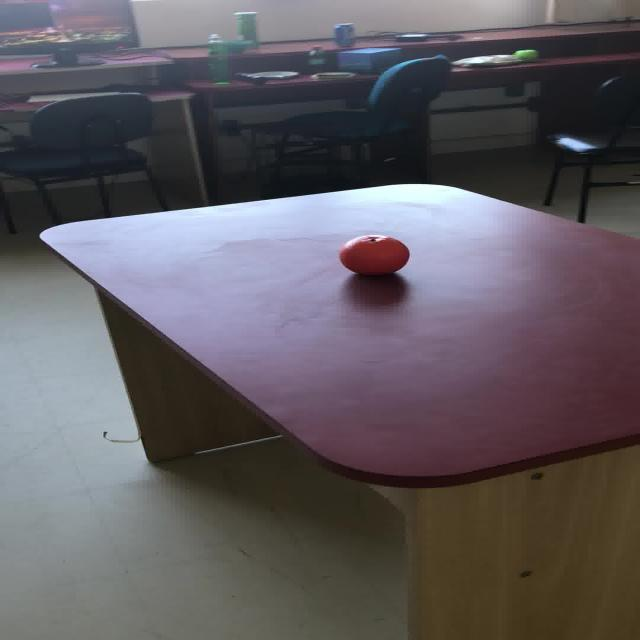orange: (337, 234, 408, 275), (512, 49, 538, 61)
